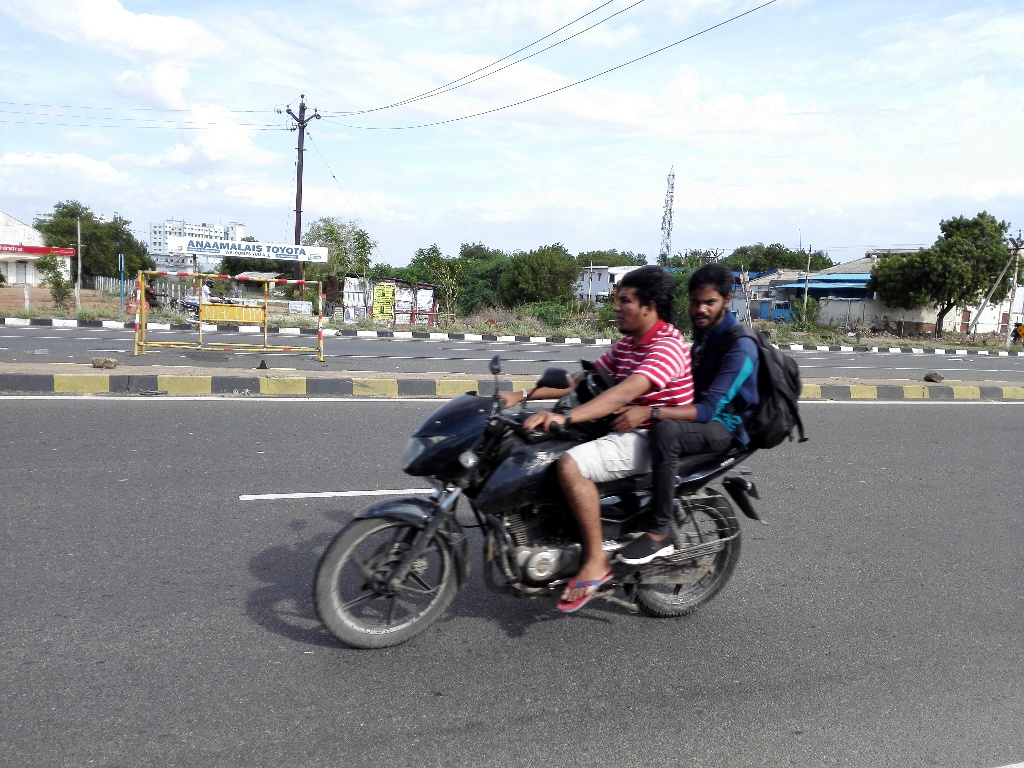biker: (287, 217, 831, 668)
nohelmet: (608, 262, 680, 352), (683, 258, 743, 346)
